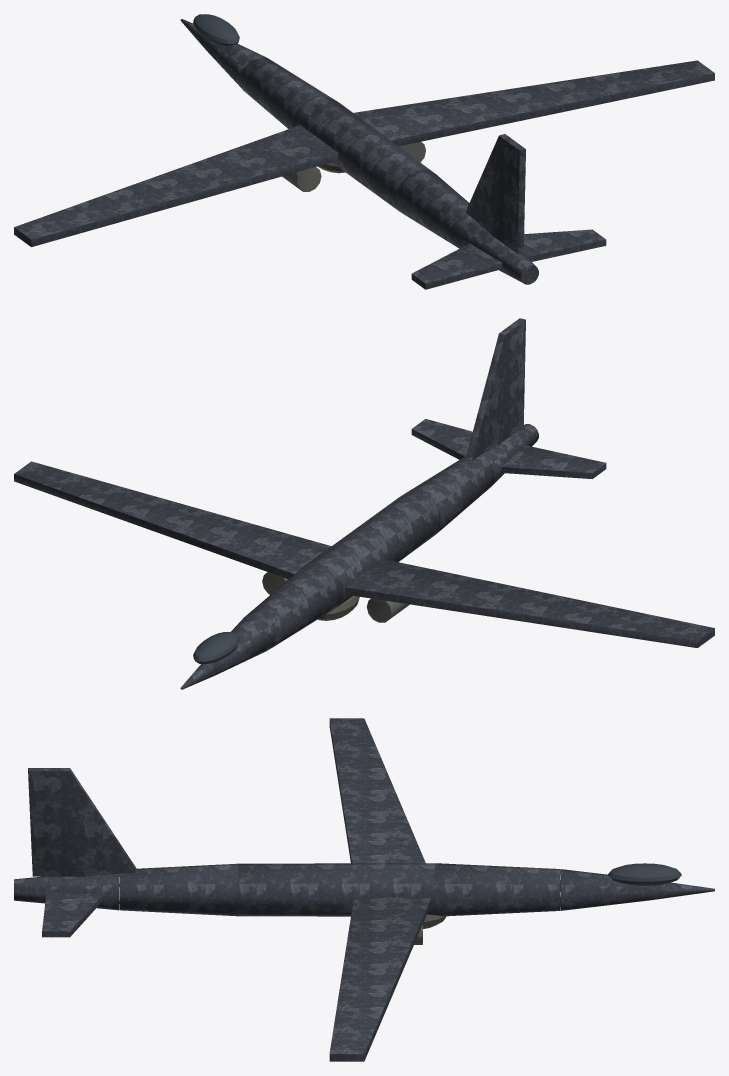
The model's file is isr_e1_us_recon_LOD1.glb.
3 renders of one model, top to bottom at view 1: azimuth 30°, elevation 25°; view 2: azimuth 150°, elevation 25°; view 3: azimuth 270°, elevation 25°, orthographic.
Visible parts, largest first — view 1: isr_e1_us_recon_LOD1_body, isr_e1_us_recon_LOD1_glass, isr_e1_us_recon_LOD1_gun; view 2: isr_e1_us_recon_LOD1_body, isr_e1_us_recon_LOD1_glass, isr_e1_us_recon_LOD1_gun; view 3: isr_e1_us_recon_LOD1_body, isr_e1_us_recon_LOD1_glass.
Part boxes in pixels (x1,y1,x2,y2): isr_e1_us_recon_LOD1_body: (14, 19, 714, 289); isr_e1_us_recon_LOD1_glass: (193, 14, 239, 46); isr_e1_us_recon_LOD1_gun: (282, 141, 425, 191); isr_e1_us_recon_LOD1_body: (14, 318, 714, 689); isr_e1_us_recon_LOD1_glass: (193, 632, 239, 664); isr_e1_us_recon_LOD1_gun: (262, 572, 409, 622); isr_e1_us_recon_LOD1_body: (14, 718, 714, 1061); isr_e1_us_recon_LOD1_glass: (607, 863, 681, 885).
Bounding box in the file's own units: 34 × 7.45 × 30.
4 materials, 1 textured.
